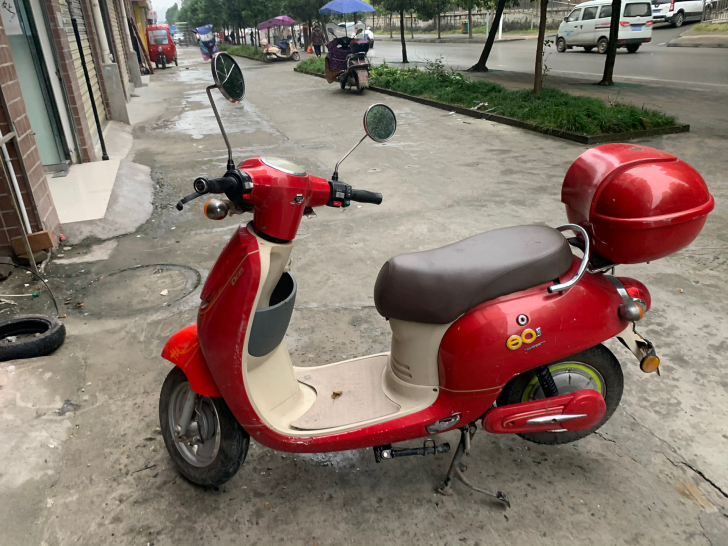电动车: (148, 47, 715, 508)
